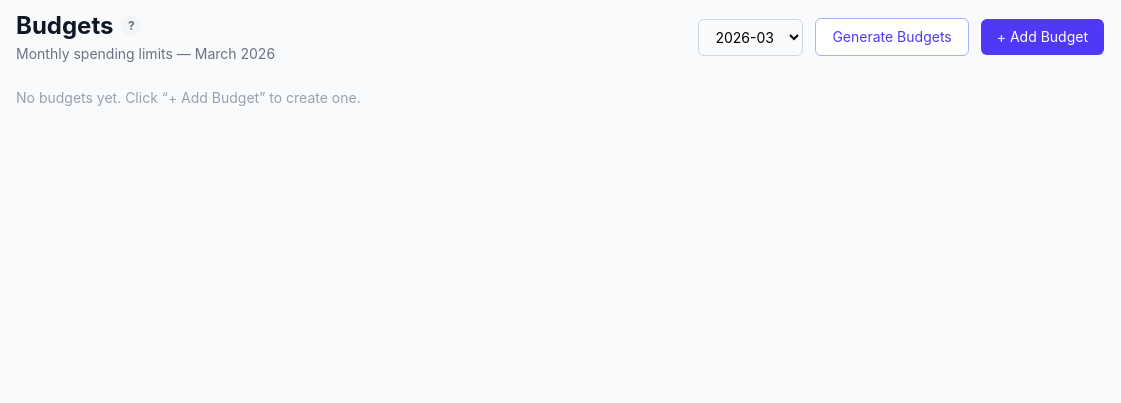
BudgetPage › shows 'Generate Budgets' button and closes on cancel
The width and height of the screenshot is (1121, 403).
Check: the text "No budgets yet. Click “+ Add Budget” to create one." is shown, box [16, 89, 361, 106]
Click the button "Generate Budgets": point(892, 37) [815, 18, 969, 56]
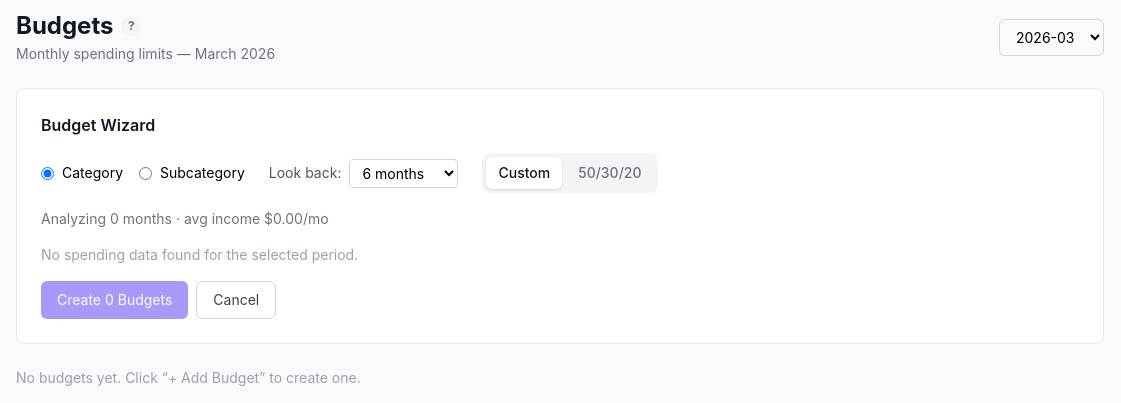
Check: the button "50/30/20" is shown, box [566, 157, 654, 189]
